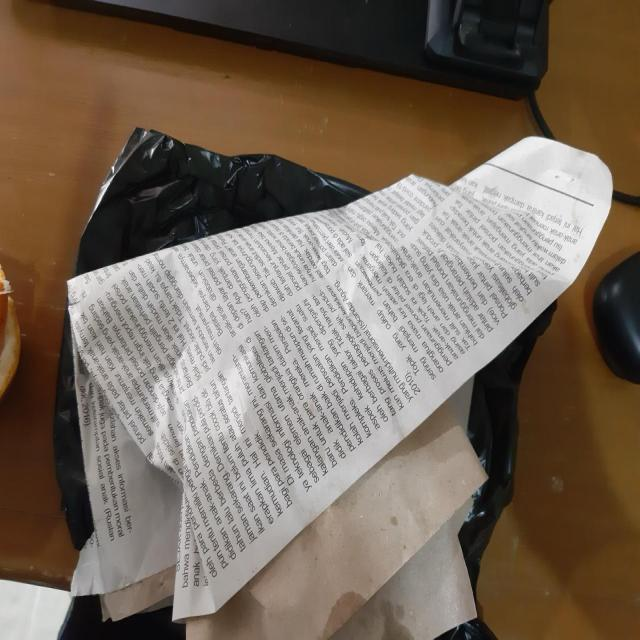Koran: (49, 124, 612, 636)
